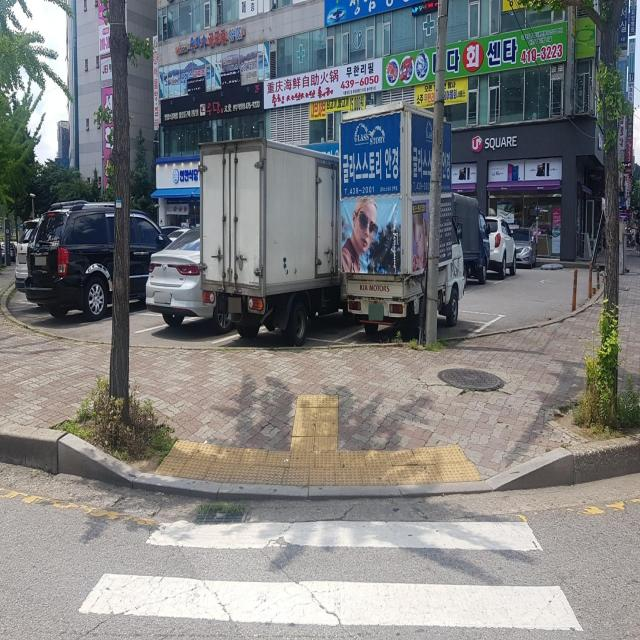횡단보도: (76, 516, 585, 634)
